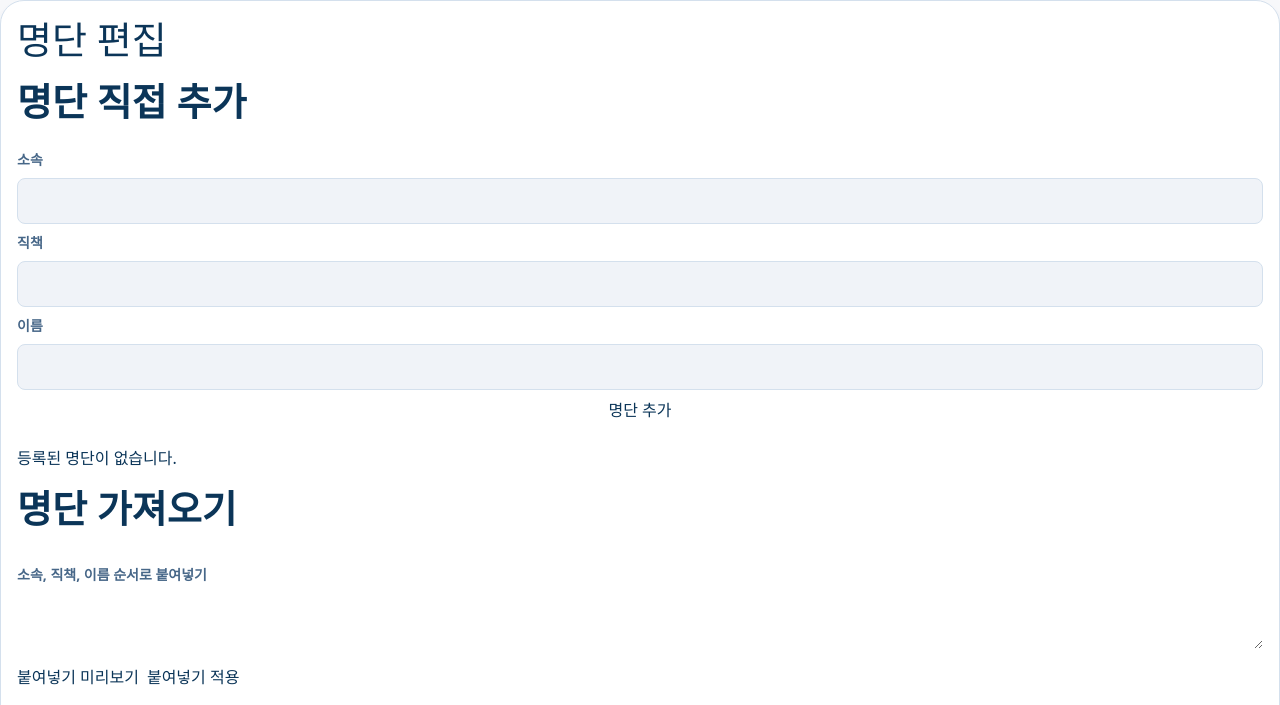
Test: explains a rejected roster addition in the toast
The image size is (1280, 705).
Type "나래" into the field labelled "이름" at (640, 367), box [17,344,1263,390]
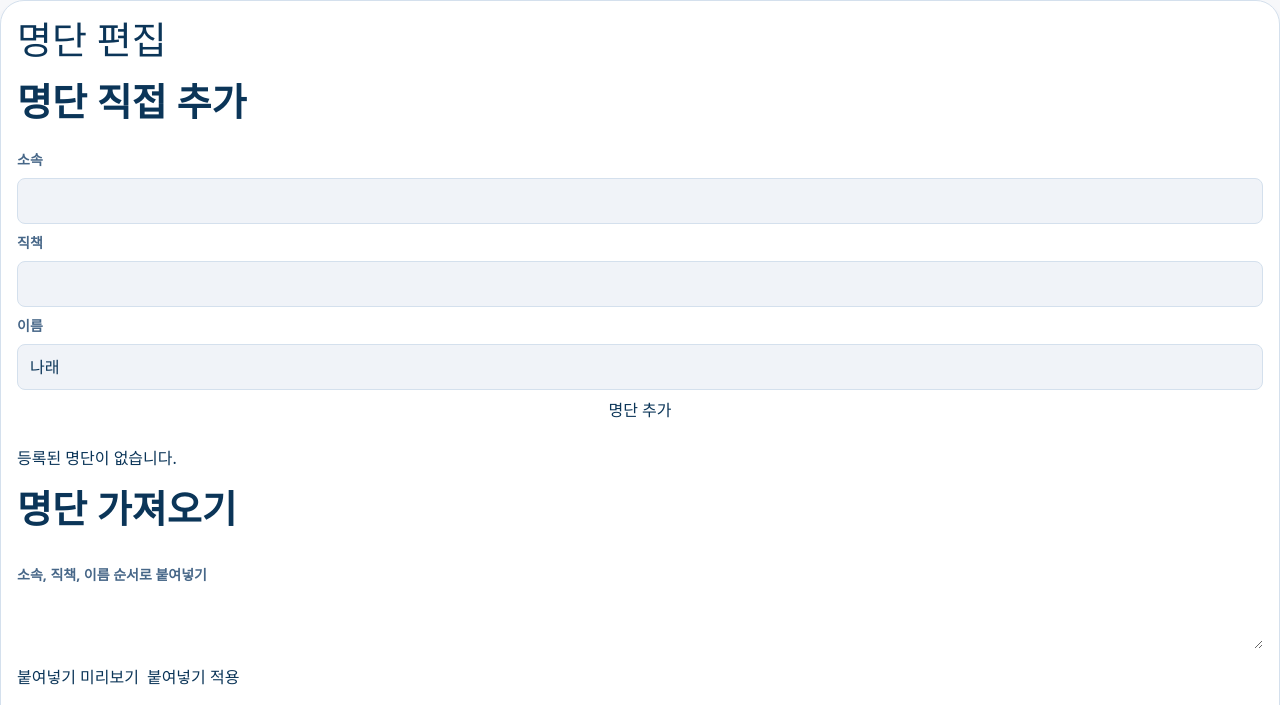
Click the button "명단 추가" at (640, 410), box [17,398,1263,422]
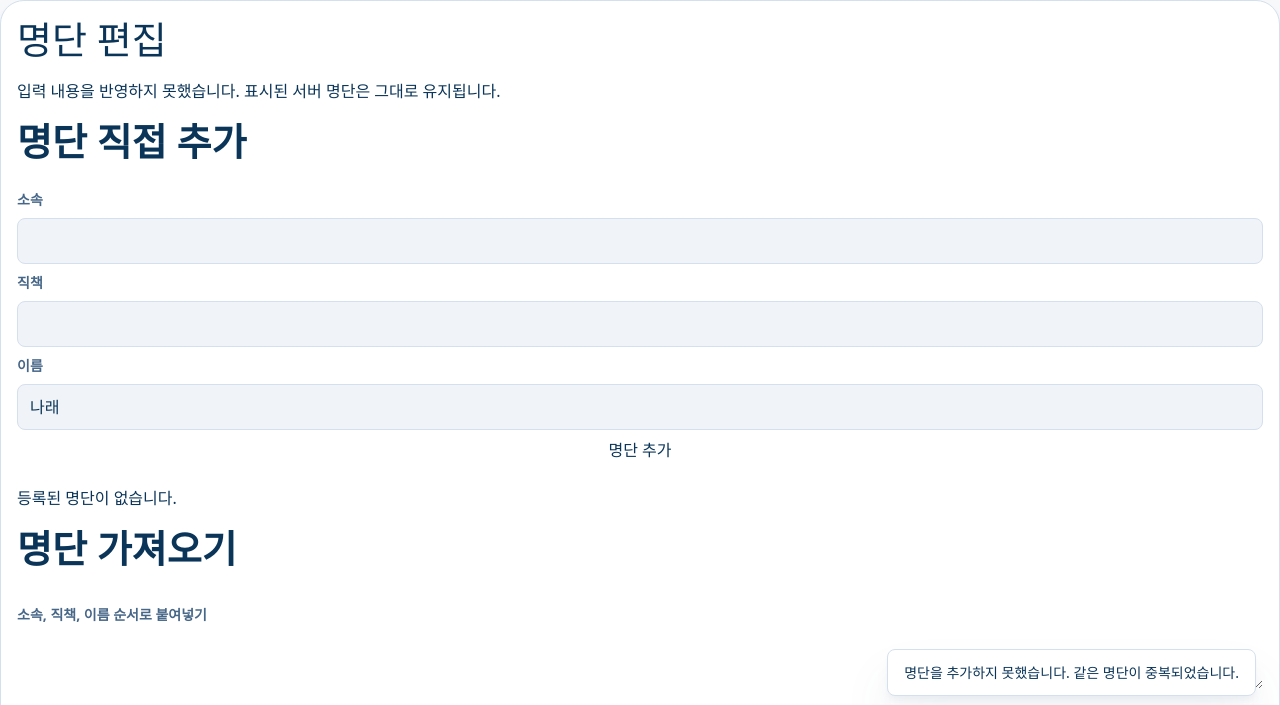
Check: the text "명단을 추가하지 못했습니다. 같은 명단이 중복되었습니다." is shown, box [887,649,1256,696]
Check: the message named "명단 유지 안내" reads "입력 내용을 반영하지 못했습니다. 표시된 서버 명단은 그대로 유지됩니다.", box [17,80,500,102]
